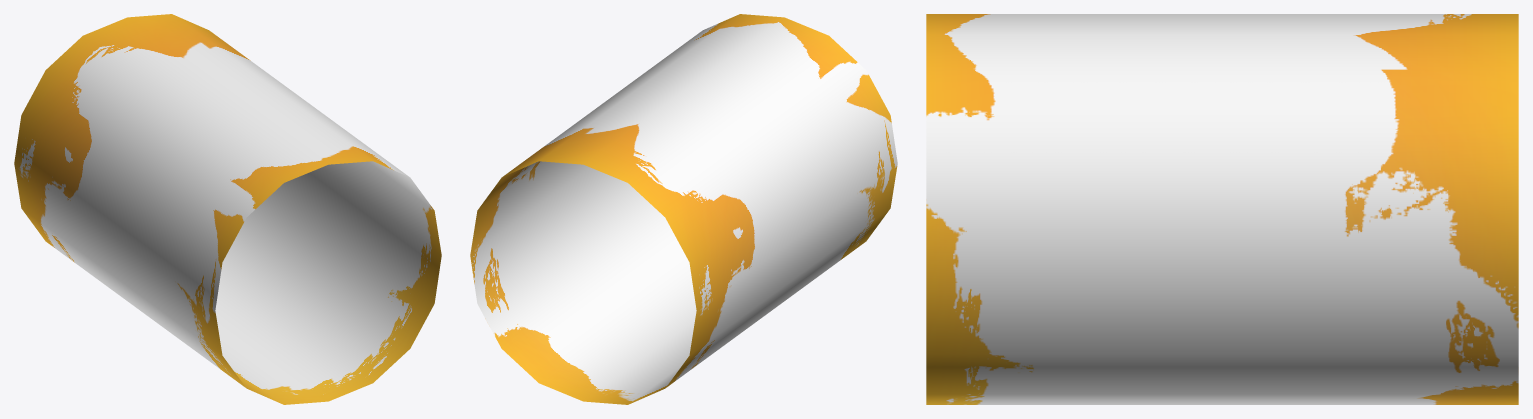
File: Portal_Pillar-Orange.fbx
The picture shows the model from 3 angles, left to right: view 1: azimuth 30°, elevation 25°; view 2: azimuth 150°, elevation 25°; view 3: azimuth 270°, elevation 25°; orthographic projection. The views are drawn at different scales.
Visible parts, largest first — view 1: Portal_Pillar-Orange; view 2: Portal_Pillar-Orange; view 3: Portal_Pillar-Orange.
Part boxes in pixels (left/top/right/bottom): Portal_Pillar-Orange: left=14, top=14, right=441, bottom=404; Portal_Pillar-Orange: left=470, top=14, right=897, bottom=404; Portal_Pillar-Orange: left=926, top=14, right=1518, bottom=404.
Bounding box in the file's own units: 1305 × 1305 × 2009.
Materials: 1 (1 with a texture image).
